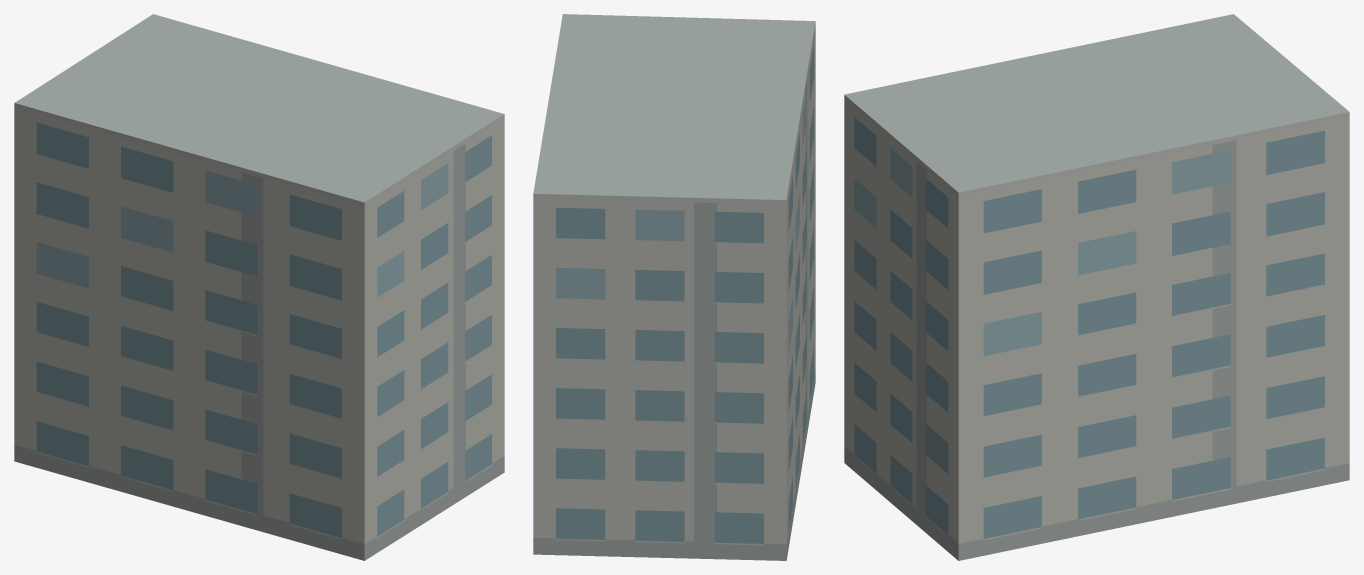
File: survey-upis-32978063.glb
3 renders of one model, left to right at view 1: azimuth 30°, elevation 25°; view 2: azimuth 150°, elevation 25°; view 3: azimuth 270°, elevation 25°, orthographic. The views are drawn at different scales.
Parts seen in each view (by area): view 1: survey-upis-32978063.tmp; view 2: survey-upis-32978063.tmp; view 3: survey-upis-32978063.tmp.
Boxes of the visible parts, box(x1,y1,x2,y2) form: survey-upis-32978063.tmp: box(14, 14, 504, 560); survey-upis-32978063.tmp: box(533, 14, 815, 560); survey-upis-32978063.tmp: box(844, 14, 1349, 560).
Bounding box in the file's own units: 19.04 × 18.3 × 22.77.
